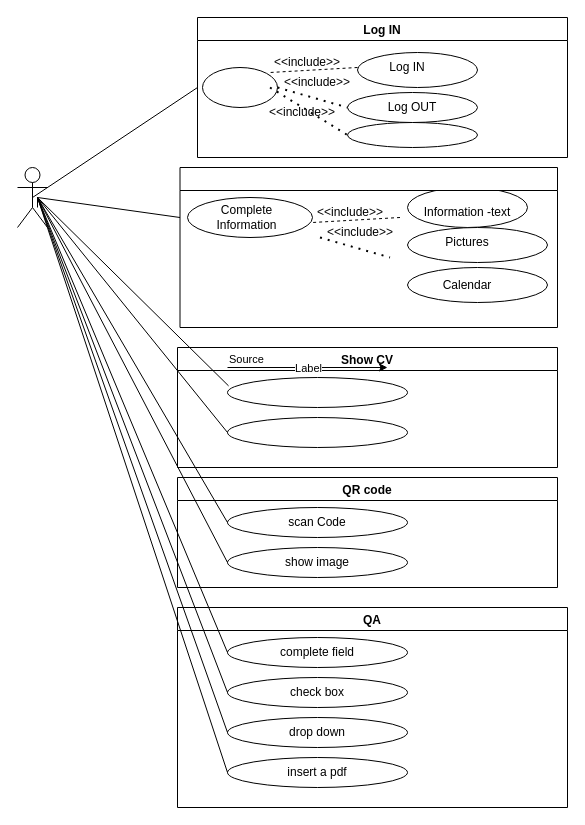
Image size: 585x825. Some labels were removed from this diagram. Each missing label, with the centre of its shape:
back to start page: (x=317, y=432)
Create CV: (x=368, y=247)
Log: (x=240, y=87)
New Account: (x=412, y=135)
Show CV informations: (x=317, y=392)
user: (x=32, y=197)
